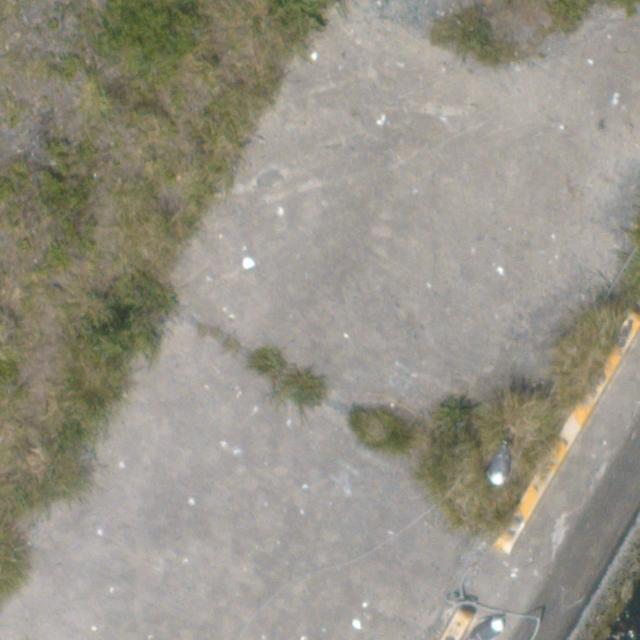umineko: (474, 617, 506, 638), (489, 453, 506, 483)
